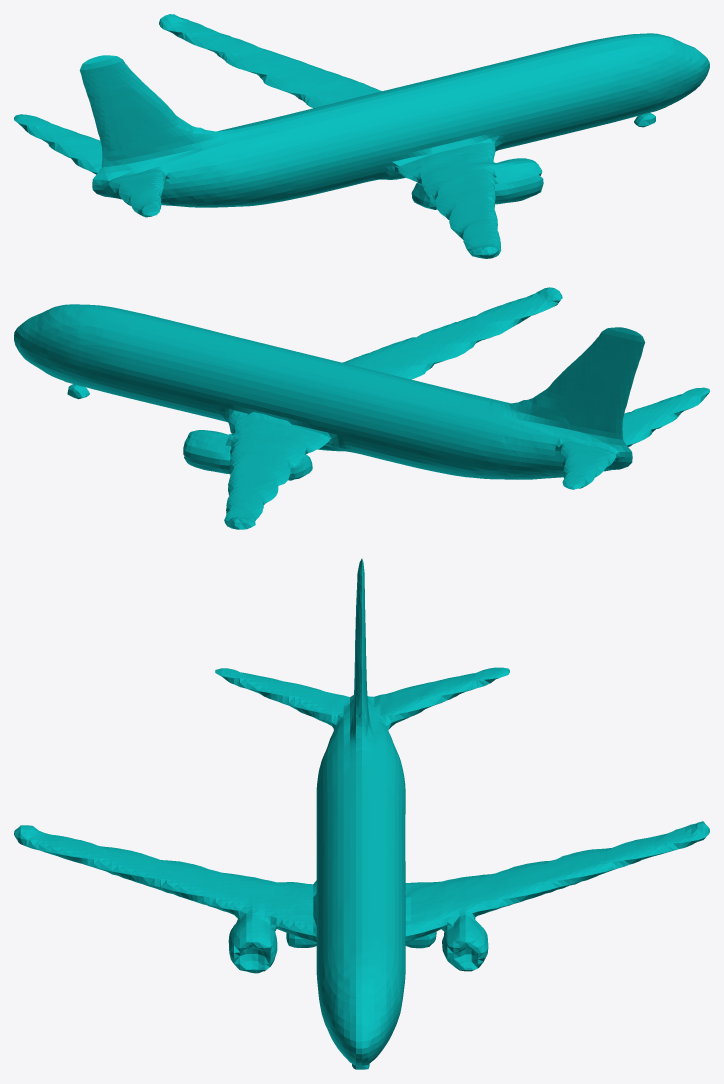
3 renders of one model, top to bottom at view 1: azimuth 30°, elevation 25°; view 2: azimuth 150°, elevation 25°; view 3: azimuth 270°, elevation 25°, orthographic. The views are drawn at different scales.
Bounding box in the file's own units: 1.01 × 0.3135 × 0.8955.
